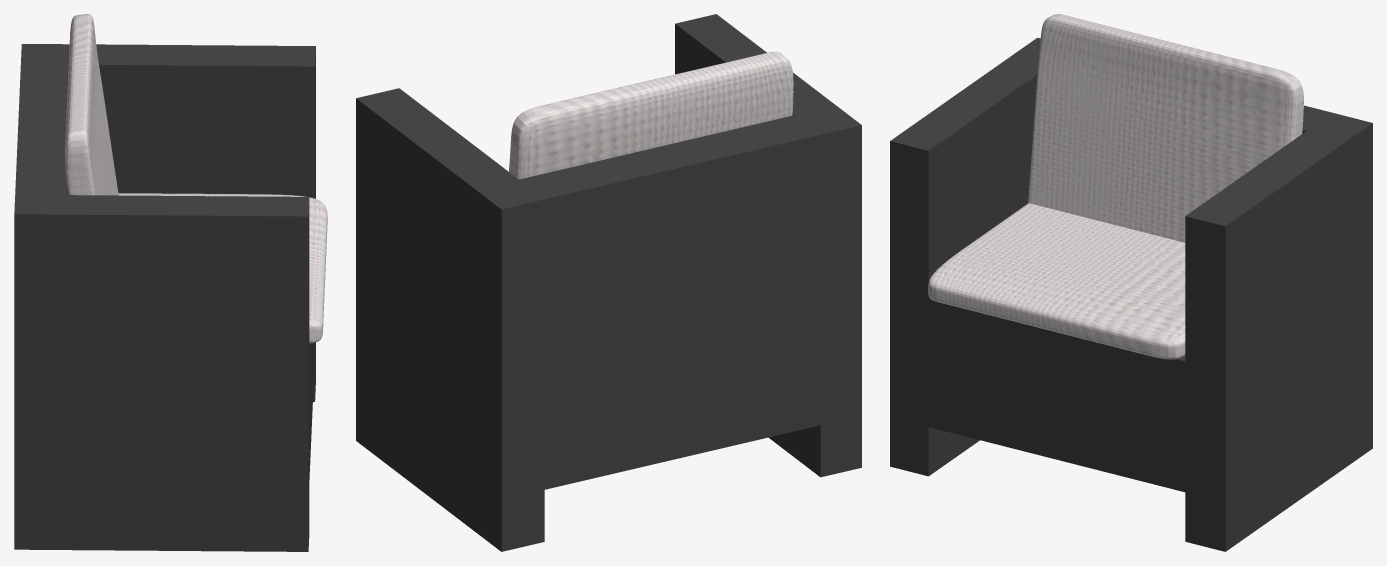
The model's file is couch-small.gltf.
3 renders of one model, left to right at view 1: azimuth 30°, elevation 25°; view 2: azimuth 150°, elevation 25°; view 3: azimuth 270°, elevation 25°, orthographic. The views are drawn at different scales.
Parts seen in each view (by area): view 1: Cube.005, Pillow (Seat).003, Pillow (Seat).002, Cube.006; view 2: Cube.005, Pillow (Seat).003; view 3: Cube.005, Pillow (Seat).003, Cube.006, Pillow (Seat).002.
Boxes of the visible parts, x1,y1,x2,y2 form: Cube.005: (14,44,315,551); Pillow (Seat).003: (65,14,118,195); Pillow (Seat).002: (118,193,327,343); Cube.006: (309,342,314,479); Cube.005: (356,14,861,551); Pillow (Seat).003: (509,51,793,179); Cube.005: (890,37,1372,551); Pillow (Seat).003: (1028,14,1303,242); Cube.006: (928,296,1185,492); Pillow (Seat).002: (928,203,1185,359).
Size of the model in its own units: 1.03 by 0.9715 by 1.11.
2 materials, 1 textured.
